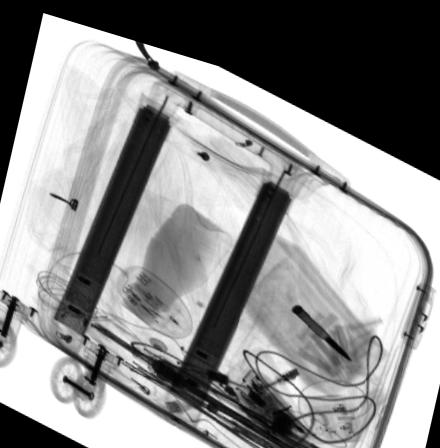Bullet: (290, 286, 352, 342)
